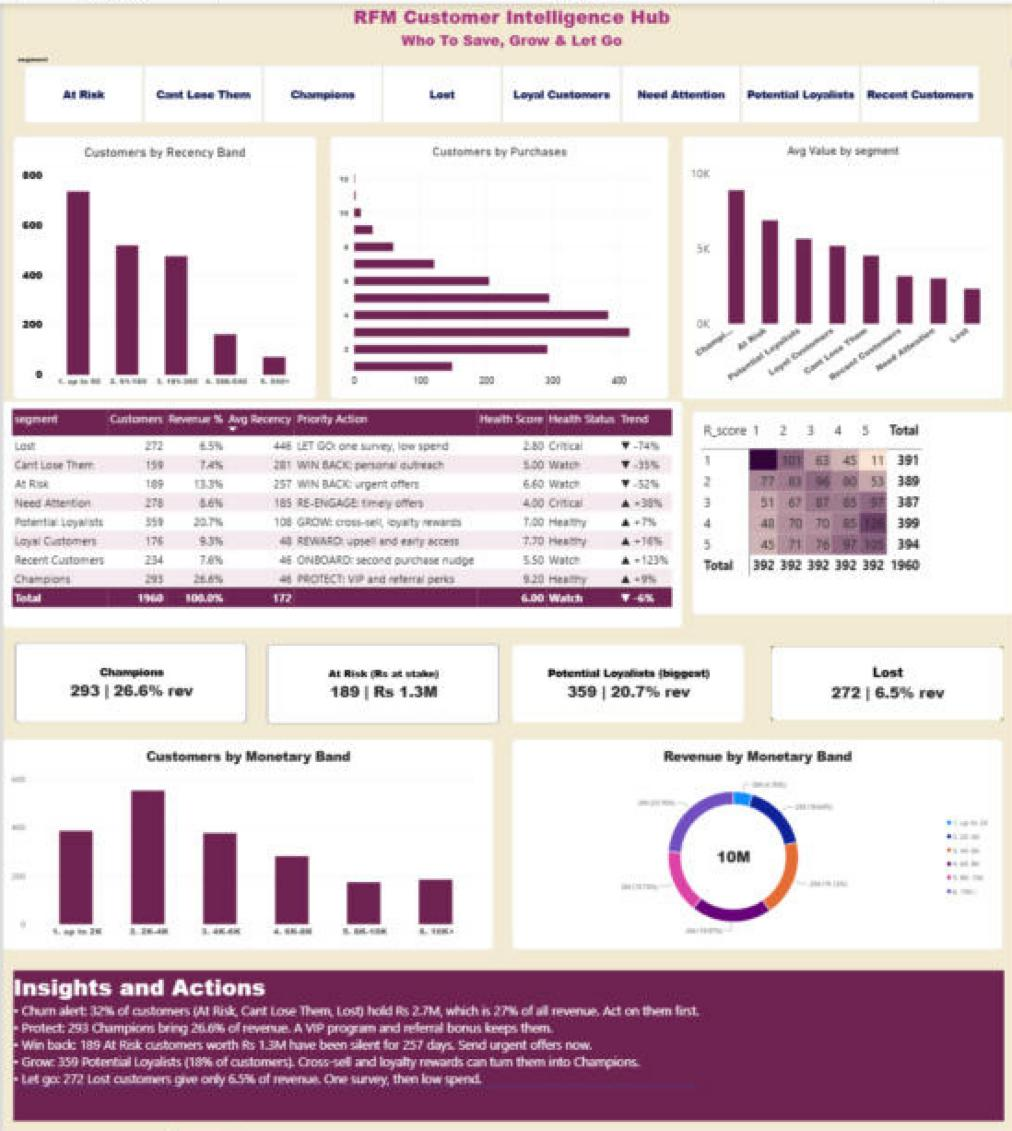

This screenshot's page, from the dashboard's own definition file:
{"tool":"powerbi","page":{"name":"The Insights & Actions","canvas":[1920,2150],"ordinal":1},"visuals":[{"type":"textbox","title":"RFM Customer Intelligence Hub","box":[9.4,0,1911.7,120.5],"z":1000},{"type":"slicer","fields":{"Values":["rfm_segmentation.segment"]},"box":[18.9,97.3,1852,132.5],"z":2000},{"type":"clusteredColumnChart","fields":{"Category":["rfm_segmentation.Recency Band"],"Y":["rfm_segmentation.Customers"]},"box":[20.7,251.9,574.8,497.8],"z":3000},{"type":"clusteredBarChart","fields":{"Category":["rfm_segmentation.Purchases"],"Y":["rfm_segmentation.Customers"]},"box":[622.2,251.9,643,497.8],"z":4000},{"type":"clusteredColumnChart","fields":{"Category":["rfm_segmentation.segment"],"Y":["rfm_segmentation.Avg Value"]},"box":[1288.9,251.9,610.4,497.8],"z":5000},{"type":"pivotTable","fields":{"Columns":["rfm_segmentation.F_score"],"Rows":["rfm_segmentation.R_score"],"Values":["rfm_segmentation.Customers"]},"box":[1309.6,773.3,610,385],"z":6000},{"type":"tableEx","fields":{"Values":["rfm_segmentation.segment","rfm_segmentation.Customers","rfm_segmentation.Revenue %","rfm_segmentation.Avg Recency","rfm_segmentation.Priority Action","rfm_segmentation.Health Score","rfm_segmentation.Health Status","rfm_segmentation.Trend vs 2023"]},"box":[0,755,1288.9,430],"z":7000},{"type":"cardVisual","fields":{"Data":["rfm_segmentation.Champions Card"]},"box":[21.6,1213.9,440.7,151.4],"z":8000},{"type":"cardVisual","fields":{"Data":["rfm_segmentation.At Risk Card"]},"box":[502.9,1216.6,440,150],"z":9000},{"type":"cardVisual","fields":{"Data":["rfm_segmentation.Potential Card"]},"box":[965.2,1216.6,440.7,148.7],"z":10000},{"type":"cardVisual","fields":{"Data":["rfm_segmentation.Lost Card"]},"box":[1457.2,1219.3,440,140],"z":11000},{"type":"textbox","box":[19.9,1833.5,1880,285.7],"z":12000},{"type":"clusteredColumnChart","fields":{"Category":["rfm_segmentation.Monetary Band"],"Y":["rfm_segmentation.Customers"]},"box":[0,1395.1,930,400],"z":12001},{"type":"donutChart","fields":{"Category":["rfm_segmentation.Monetary Band"],"Y":["rfm_segmentation.Revenue"]},"box":[966.6,1395.1,930,398.6],"z":12002}]}

Visuals, with their boxes in screenshot pixels (x1, y1, x2, y2), scaled from the page's 1920x2150 canvas onto the 1012x1131 screenshot:
"RFM Customer Intelligence Hub" textbox: <bbox>5, 0, 1011, 63</bbox>
slicer - rfm_segmentation.segment: <bbox>10, 51, 986, 121</bbox>
clusteredColumnChart - rfm_segmentation.Recency Band x rfm_segmentation.Customers: <bbox>11, 133, 314, 394</bbox>
clusteredBarChart - rfm_segmentation.Purchases x rfm_segmentation.Customers: <bbox>328, 133, 667, 394</bbox>
clusteredColumnChart - rfm_segmentation.segment x rfm_segmentation.Avg Value: <bbox>679, 133, 1001, 394</bbox>
pivotTable - rfm_segmentation.F_score x rfm_segmentation.R_score: <bbox>690, 407, 1011, 609</bbox>
tableEx - rfm_segmentation.segment x rfm_segmentation.Customers: <bbox>0, 397, 679, 623</bbox>
cardVisual - rfm_segmentation.Champions Card: <bbox>11, 639, 244, 718</bbox>
cardVisual - rfm_segmentation.At Risk Card: <bbox>265, 640, 497, 719</bbox>
cardVisual - rfm_segmentation.Potential Card: <bbox>509, 640, 741, 718</bbox>
cardVisual - rfm_segmentation.Lost Card: <bbox>768, 641, 1000, 715</bbox>
textbox: <bbox>10, 965, 1001, 1115</bbox>
clusteredColumnChart - rfm_segmentation.Monetary Band x rfm_segmentation.Customers: <bbox>0, 734, 490, 944</bbox>
donutChart - rfm_segmentation.Monetary Band x rfm_segmentation.Revenue: <bbox>509, 734, 1000, 944</bbox>
